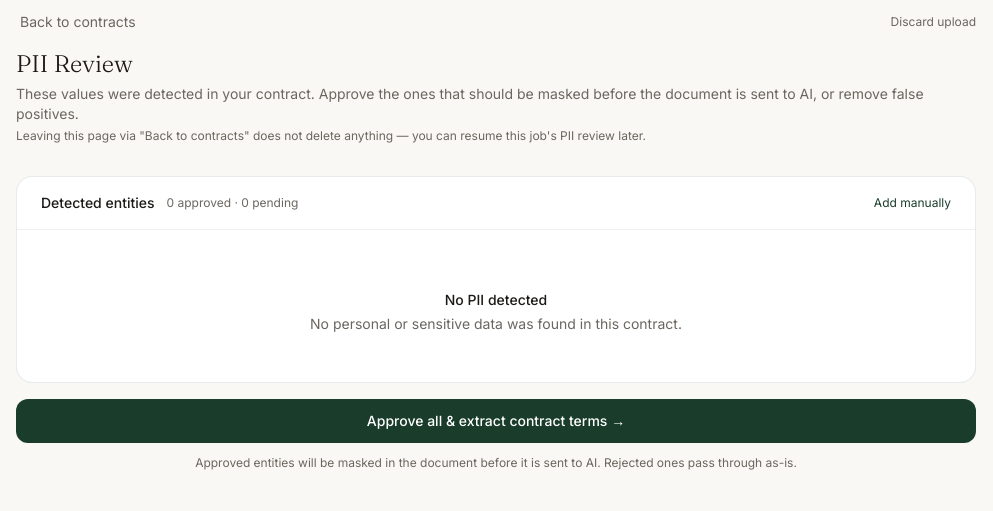
it: PIIReviewPage — the only path to extraction › does not navigate if /execute fails, and surfaces an error instead
expect the text "No PII detected" is shown: met, box x1=445 y1=291 x2=547 y2=308
Click the button "Approve all & extract contract terms →" at (496, 421), box x1=16 y1=399 x2=976 y2=443
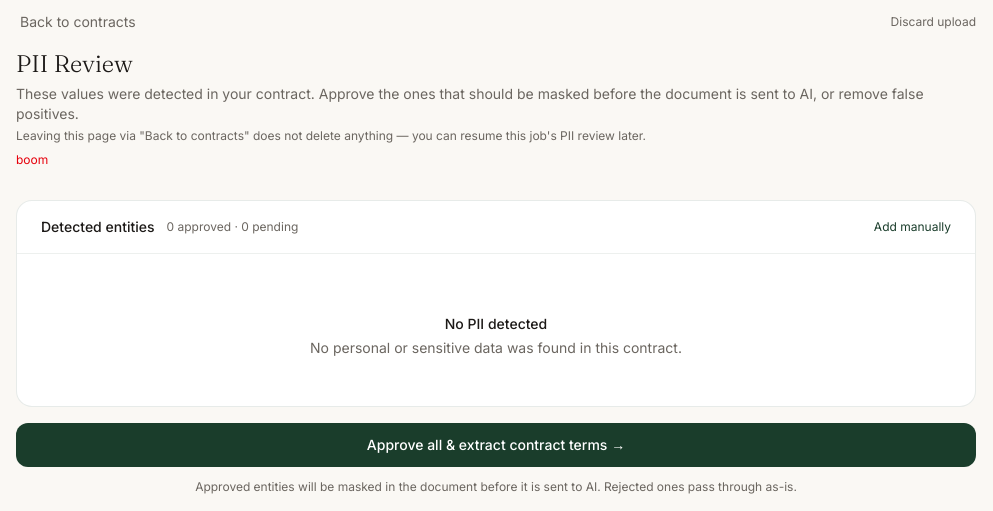
expect the text "boom" is shown: met, box x1=16 y1=152 x2=48 y2=167
